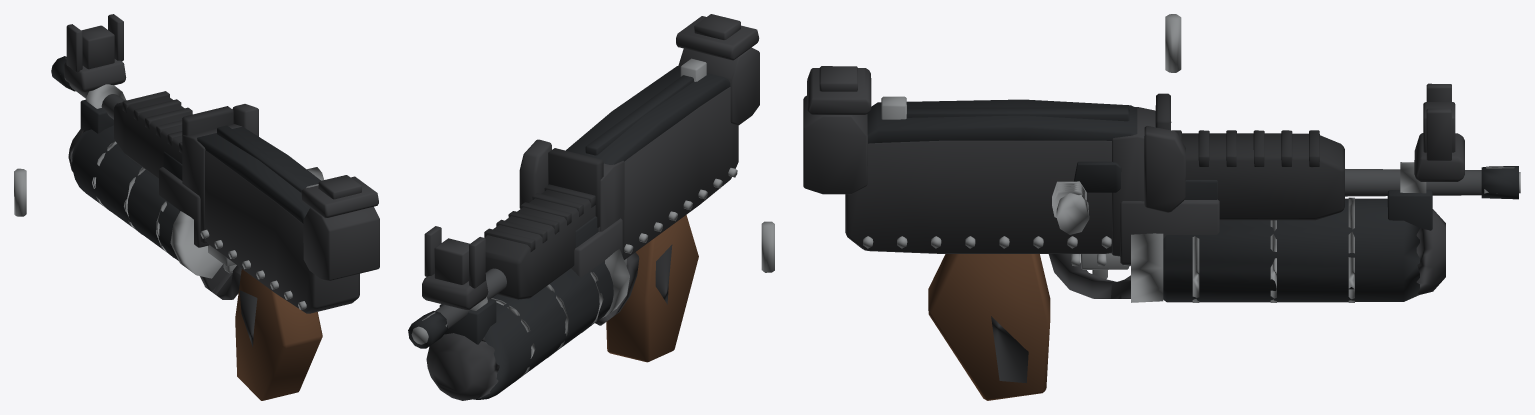
File: pp-bizon.glb
3 renders of one model, left to right at view 1: azimuth 30°, elevation 25°; view 2: azimuth 150°, elevation 25°; view 3: azimuth 270°, elevation 25°, orthographic. The views are drawn at different scales.
Parts seen in each view (by area): view 1: FrontSightBase_Batched, PistolGrip, HelicalDrum, HandguardRib0_Batched, DustCover_Batched, DrumFeedCollar, FeedTower, StockStrut0, StockButtPad, TriggerGuard, DrumFrontBracket, StockButt (+5 smaller); view 2: FrontSightBase_Batched, HandguardRib0_Batched, HelicalDrum, PistolGrip, DustCover_Batched, DrumFrontCap, StockButtPad, FeedTower, StockButt, StockStrut0, DrumFrontBracket, DrumFeedCollar (+6 smaller); view 3: FrontSightBase_Batched, HelicalDrum, HandguardRib0_Batched, PistolGrip, DustCover_Batched, FeedTower, StockButt, Barrel_Batched, StockStrut0, DrumFeedCollar, TriggerGuard, DrumFrontCap (+6 smaller).
Boxes of the visible parts, box(x1,y1,x2,y2) form: FrontSightBase_Batched: box(64, 14, 379, 313); PistolGrip: box(235, 269, 322, 400); HelicalDrum: box(72, 125, 179, 260); HandguardRib0_Batched: box(114, 91, 257, 347); DustCover_Batched: box(51, 56, 320, 223); DrumFeedCollar: box(170, 211, 222, 278); FeedTower: box(159, 167, 209, 247); StockStrut0: box(217, 125, 309, 192); StockButtPad: box(182, 106, 233, 135); TriggerGuard: box(200, 264, 241, 299); DrumFrontBracket: box(80, 99, 126, 133); StockButt: box(232, 104, 258, 136); FrontSightBase_Batched: box(422, 14, 759, 309); HandguardRib0_Batched: box(484, 184, 672, 304); HelicalDrum: box(473, 261, 613, 399); PistolGrip: box(606, 215, 698, 362); DustCover_Batched: box(408, 66, 730, 348); DrumFrontCap: box(426, 333, 499, 400); StockButtPad: box(548, 148, 603, 227); FeedTower: box(571, 218, 622, 277); StockButt: box(519, 139, 551, 208); StockStrut0: box(585, 75, 693, 155); DrumFrontBracket: box(439, 298, 496, 344); DrumFeedCollar: box(602, 249, 629, 317); FrontSightBase_Batched: box(803, 66, 1464, 256); HelicalDrum: box(1163, 198, 1419, 302); HandguardRib0_Batched: box(991, 130, 1344, 383); PistolGrip: box(928, 254, 1050, 400); DustCover_Batched: box(867, 99, 1518, 199); FeedTower: box(1120, 199, 1219, 264); StockButt: box(1144, 126, 1185, 212); Barrel_Batched: box(1345, 169, 1481, 196); StockStrut0: box(906, 107, 1129, 121); DrumFeedCollar: box(1131, 233, 1163, 302); TriggerGuard: box(1048, 254, 1130, 298); DrumFrontCap: box(1416, 209, 1445, 294).
Bounding box in the file's own units: 0.2284 × 0.2154 × 0.4418.
